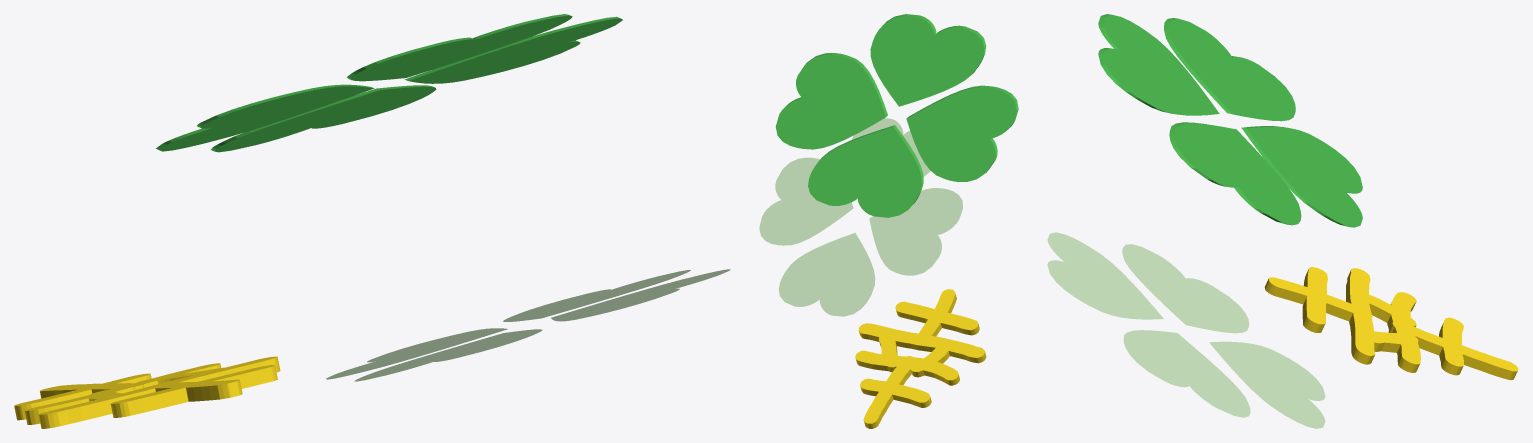
The model's file is tinker.obj.
3 renders of one model, left to right at view 1: azimuth 30°, elevation 25°; view 2: azimuth 150°, elevation 25°; view 3: azimuth 270°, elevation 25°, orthographic. The views are drawn at different scales.
Visible parts, largest first — view 1: group_0_4634441, group_0_16768282, group_0_13165757; view 2: group_0_4634441, group_0_13165757, group_0_16768282; view 3: group_0_4634441, group_0_13165757, group_0_16768282.
Boxes of the visible parts, <box> form: group_0_4634441: <box>156,14,622,152</box>; group_0_16768282: <box>14,356,280,428</box>; group_0_13165757: <box>326,269,730,381</box>; group_0_4634441: <box>775,14,1018,217</box>; group_0_13165757: <box>759,118,962,316</box>; group_0_16768282: <box>855,289,986,428</box>; group_0_4634441: <box>1098,14,1362,227</box>; group_0_13165757: <box>1047,232,1325,428</box>; group_0_16768282: <box>1264,267,1518,380</box>.
Bounding box in the file's own units: 43.11 × 41.55 × 45.41.
